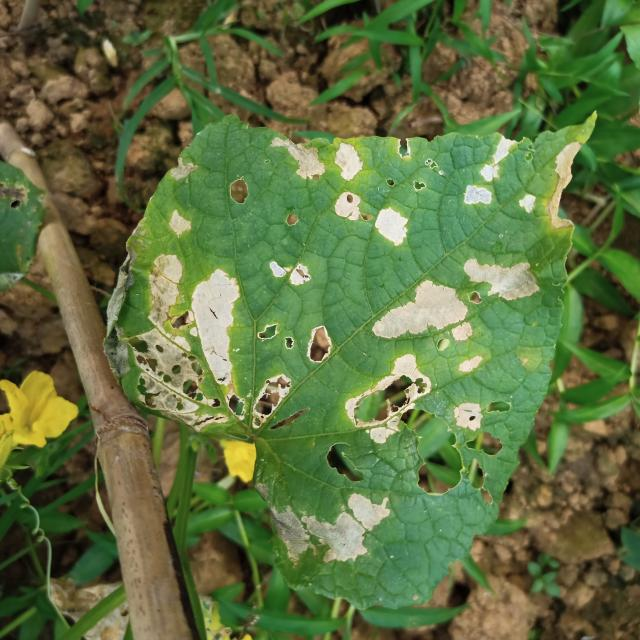disease_cucumber: (224, 98, 584, 355), (98, 204, 346, 448), (304, 317, 514, 596)
